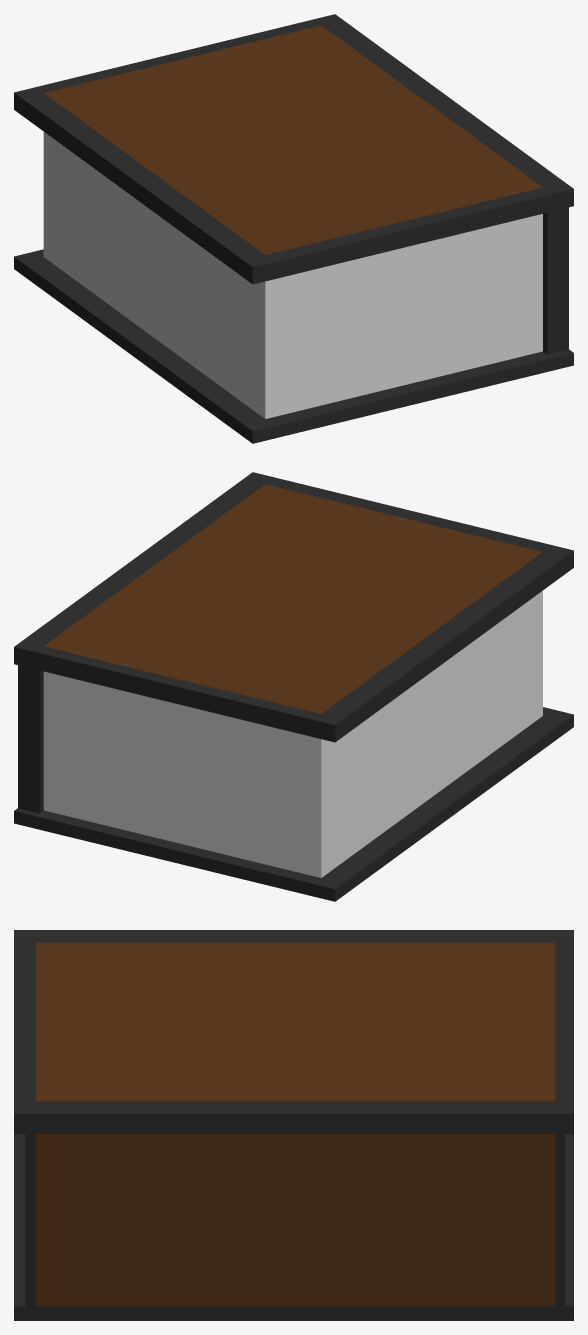
File: book.fbx
3 views of the same model, one above another, from view 1: azimuth 30°, elevation 25°; view 2: azimuth 150°, elevation 25°; view 3: azimuth 270°, elevation 25° (orthographic). The views are drawn at different scales.
Visible parts, largest first — view 1: Cube; view 2: Cube; view 3: Cube.
Part boxes in pixels (x1=…): Cube: x1=14, y1=14, x2=573, y2=443; Cube: x1=14, y1=472, x2=573, y2=901; Cube: x1=14, y1=930, x2=573, y2=1320.
Size of the model in its own units: 47.65 by 25.03 by 61.36.
